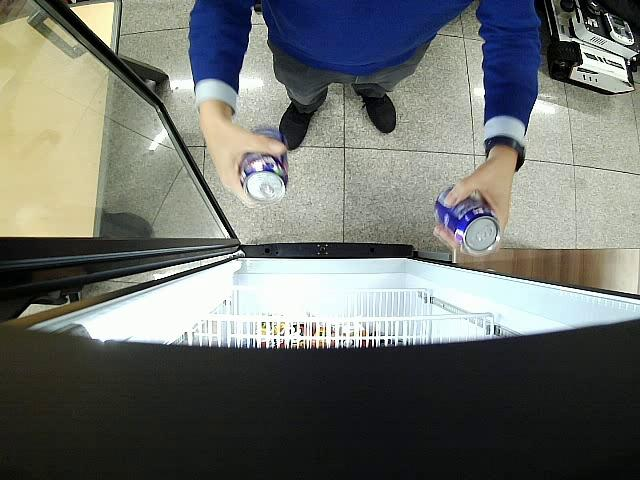00_hand: (434, 158, 516, 257), (200, 115, 286, 207)
14_welchsGrape: (435, 187, 501, 255), (240, 127, 287, 205)
